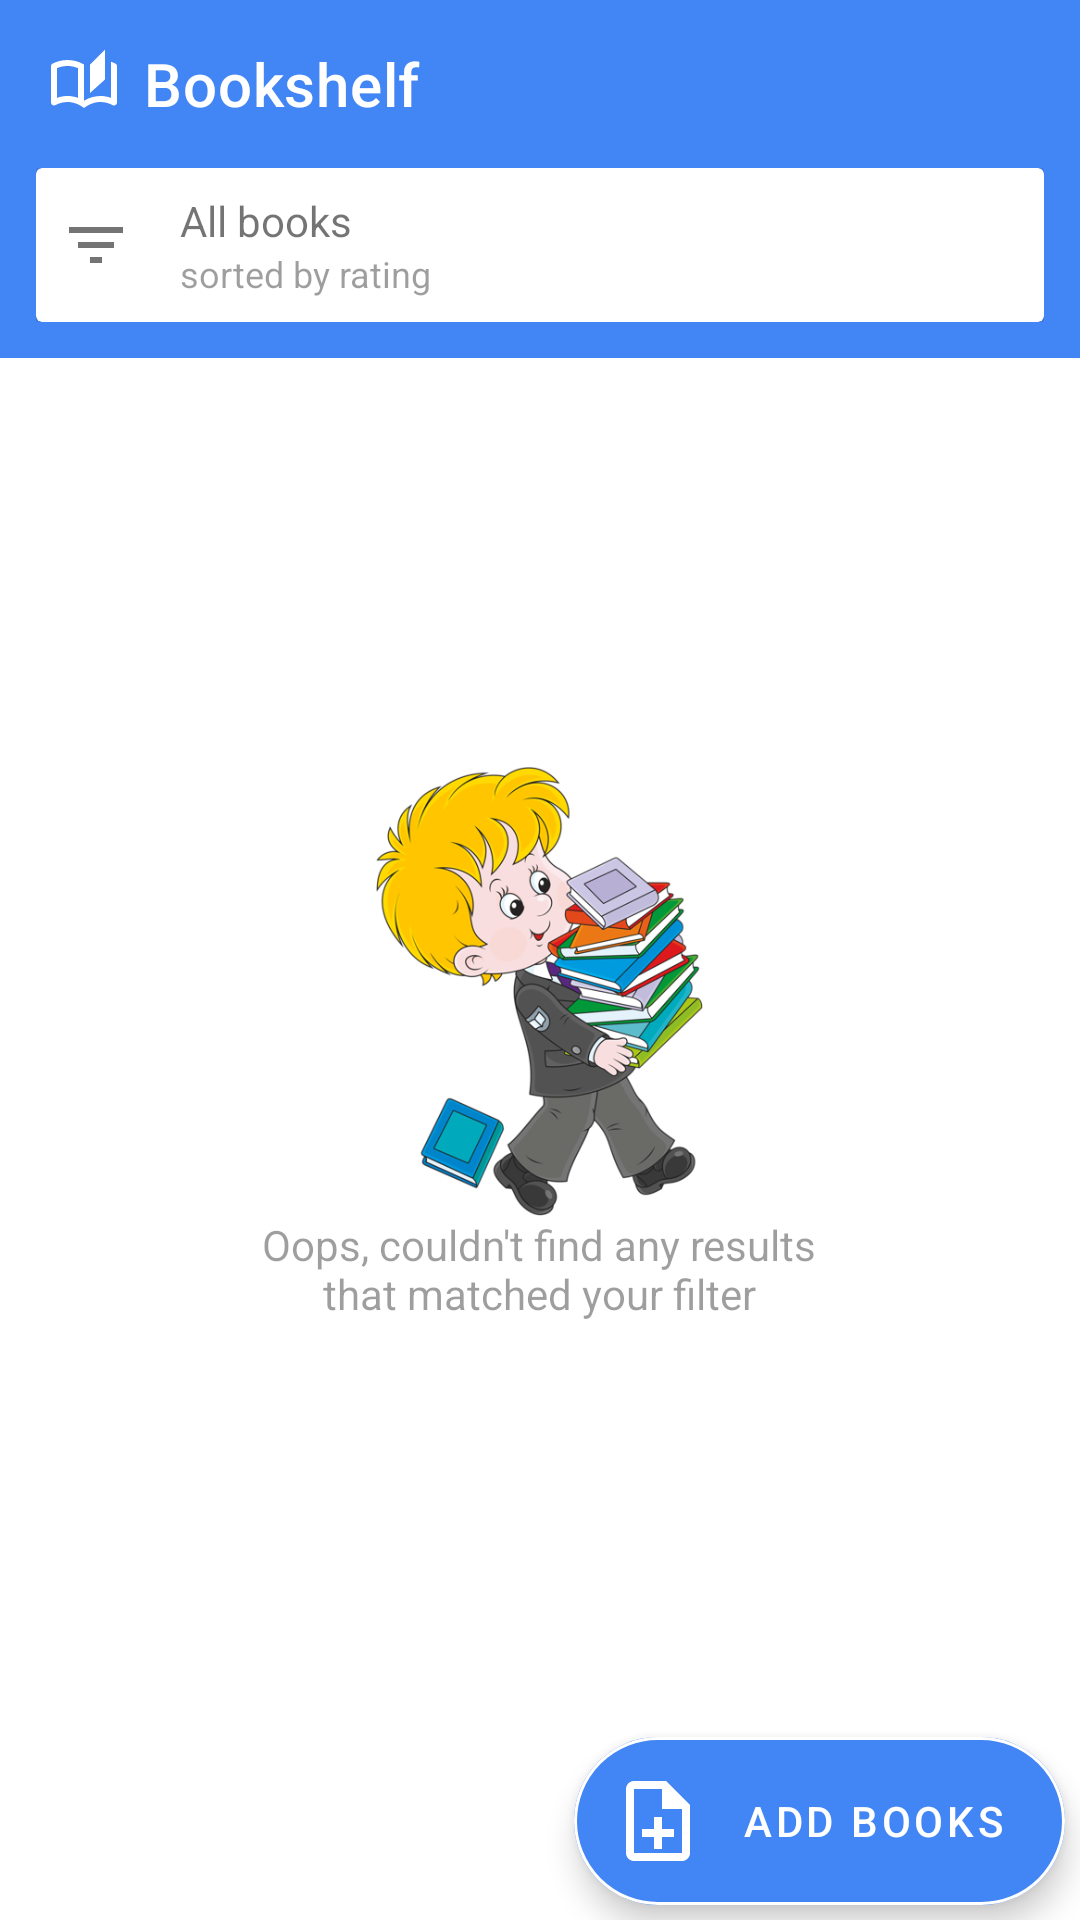

Named icons in this screenshot (1080 × 1920) and their bounding boxes, (x1, y1, x2, y2):
filter list: (69, 227, 123, 263)
